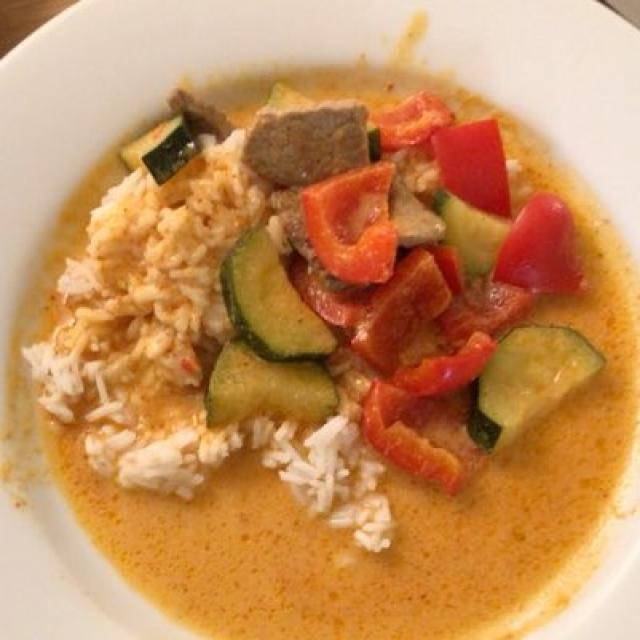chicken-curry-cream-coconut-milk-curry-spices-paste: (101, 92, 618, 623)
pork: (176, 95, 446, 237)
rice: (38, 128, 400, 533)
